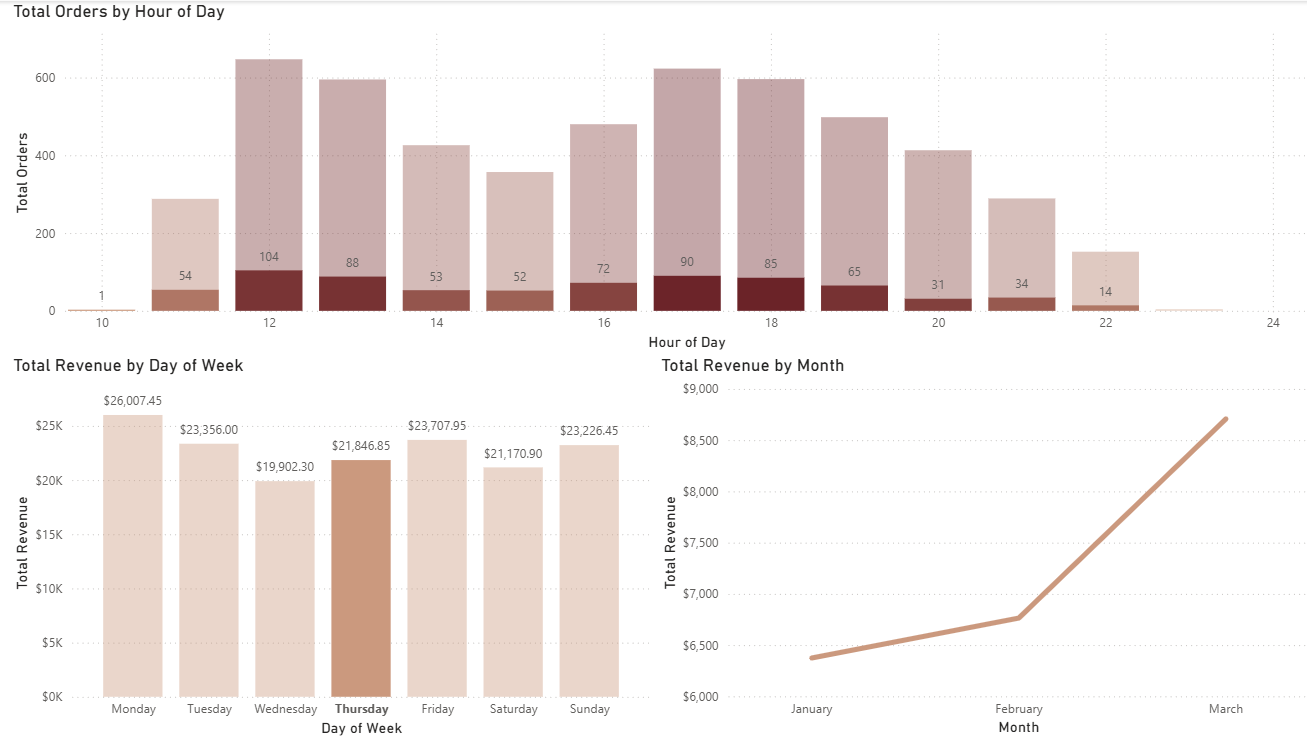

This screenshot's page, from the dashboard's own definition file:
{"tool":"powerbi","page":{"name":"Time & Trends","canvas":[1280,720],"ordinal":2},"visuals":[{"type":"clusteredColumnChart","fields":{"Category":["order_details_exp.Hour of Day"],"Y":["Measures1.Total Orders"]},"box":[9.7,0,1270.3,344.3],"z":0},{"type":"clusteredColumnChart","fields":{"Y":["Measures1.Total Revenue"],"Category":["order_details_exp.Day of Week"]},"box":[9.7,344.3,630.3,375.4],"z":1},{"type":"lineChart","fields":{"Category":["order_details_exp.order_date.Variation.Date Hierarchy.Month"],"Y":["Measures1.Total Revenue"]},"box":[640,344,640,375],"z":2}]}

Visuals, with their boxes in screenshot pixels (x1, y1, x2, y2), scaled from the page's 1280x720 canvas onto the 1307x738 screenshot:
clusteredColumnChart - order_details_exp.Hour of Day x Measures1.Total Orders: 10, 0, 1306, 353
clusteredColumnChart - Measures1.Total Revenue x order_details_exp.Day of Week: 10, 353, 654, 737
lineChart - order_details_exp.order_date.Variation.Date Hierarchy.Month x Measures1.Total Revenue: 654, 353, 1306, 737
